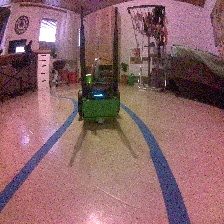rob: (77, 57, 120, 124)
